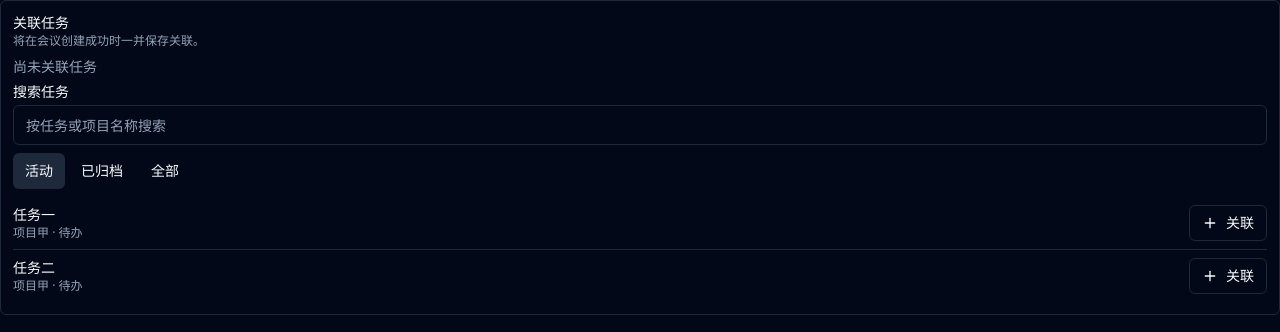
Test: MeetingTaskSelector › stages multiple unique tasks before creating a meeting without writing early
The image size is (1280, 332).
Click the button "关联" in the row of "任务一". click: (1228, 223)
box: [1189, 205, 1267, 241]
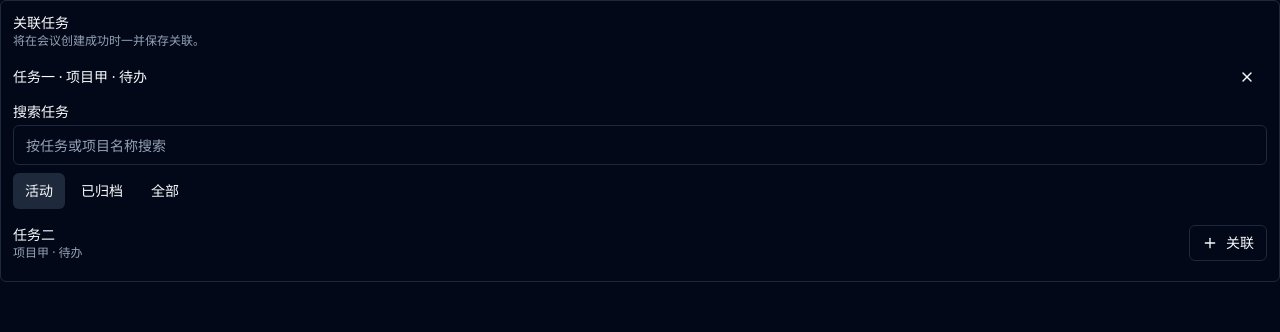
Click the button "关联". click: (1228, 243)
box: [1189, 225, 1267, 261]
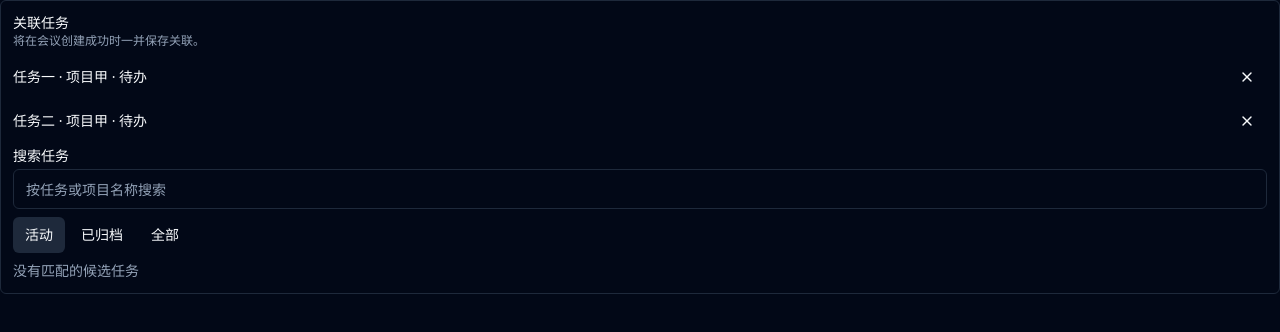
Expected: the text "任务一 · 项目甲 · 待办" is shown, [13, 67, 147, 87]
Expected: the text "任务二 · 项目甲 · 待办" is shown, [13, 111, 147, 131]
